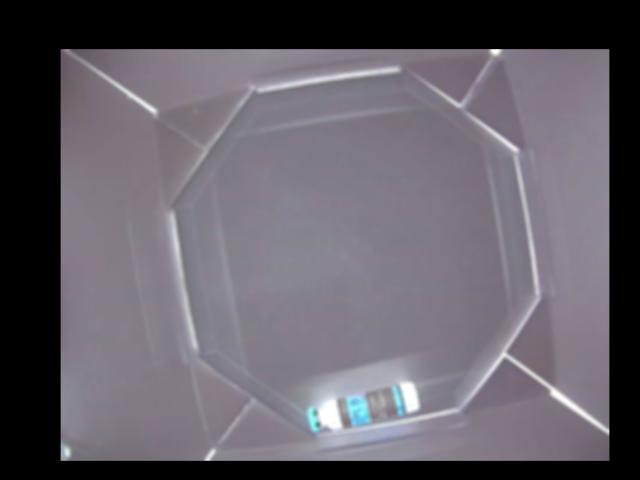Medicine: (308, 381, 421, 431)
